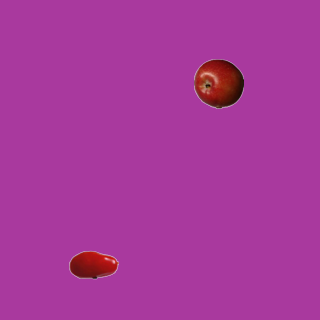Apple Braeburn: (193, 58, 243, 108)
Tomato 2: (68, 239, 118, 289)
